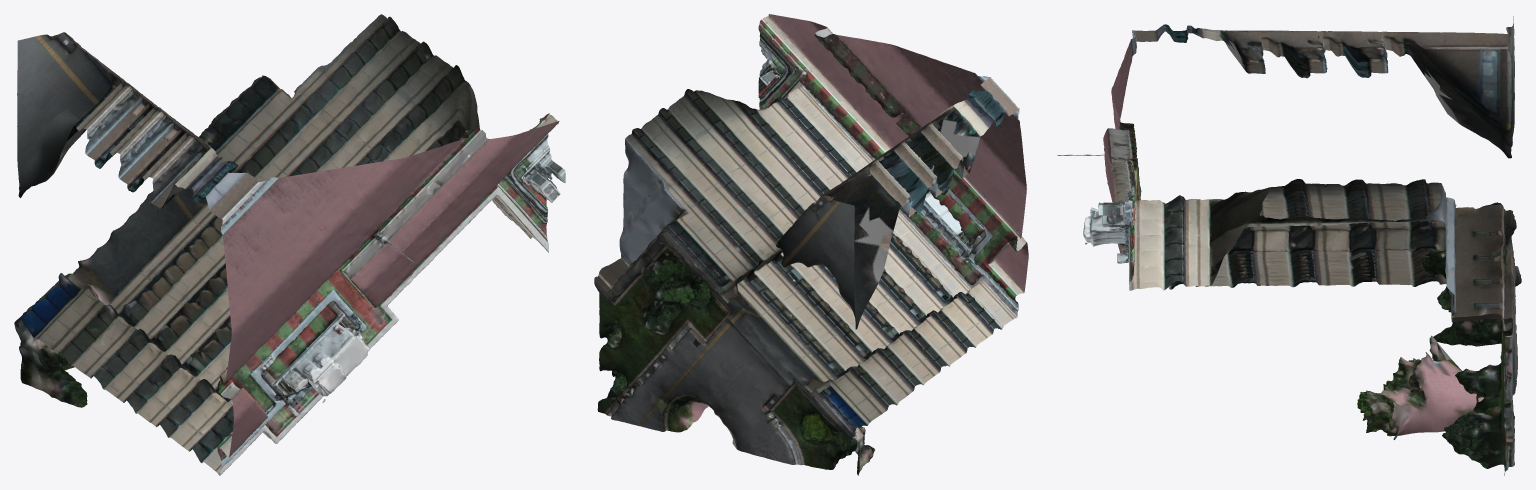
The model's file is Tile_+008_+020.fbx.
3 renders of one model, left to right at view 1: azimuth 30°, elevation 25°; view 2: azimuth 150°, elevation 25°; view 3: azimuth 270°, elevation 25°, orthographic. The views are drawn at different scales.
Visible parts, largest first — view 1: DefaultName; view 2: DefaultName; view 3: DefaultName.
Part boxes in pixels (x1,y1,x2,y2): DefaultName: (14, 14, 565, 475); DefaultName: (594, 14, 1028, 475); DefaultName: (1057, 16, 1521, 475).
Size of the model in its own units: 22.54 by 22.54 by 30.13.
